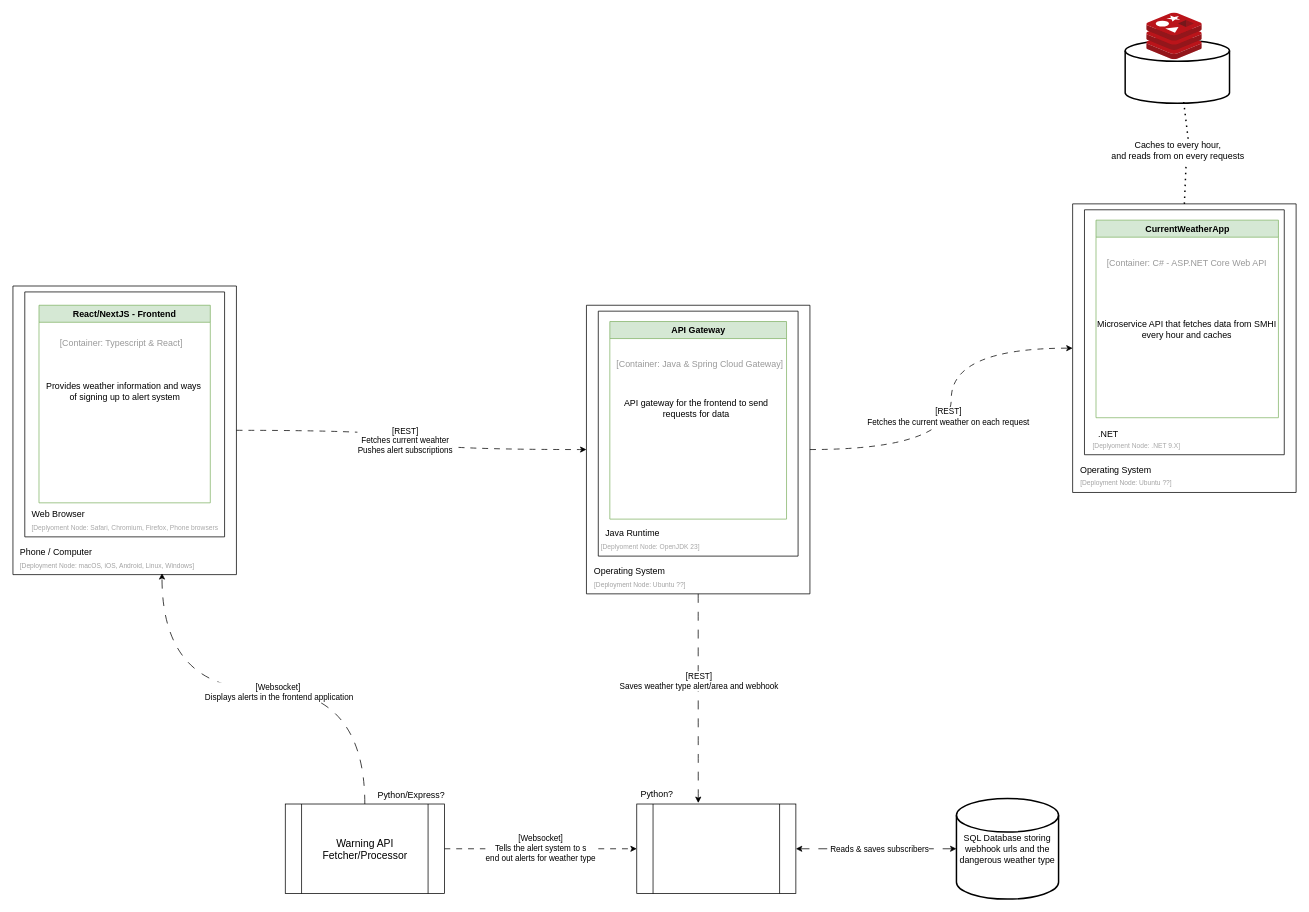
The diagram is 1309 pixels wide and 912 high, and some of its shapes have lost their labels. The centre of each missing label's shape, as x and y in pixels:
Alert System Pushes out alerts through some pub/sub system?: point (716, 848)
Redis Cache: point (1177, 71)
